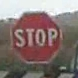stop: (8, 10, 62, 64)
